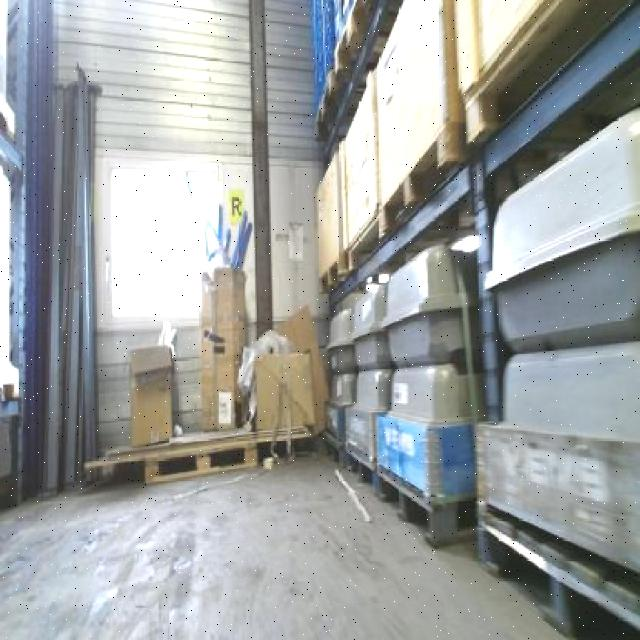pallet: (371, 113, 470, 249), (372, 459, 476, 545), (132, 430, 257, 492)
